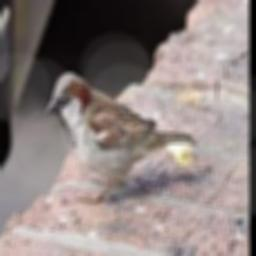Sparrow: (46, 71, 197, 201)
